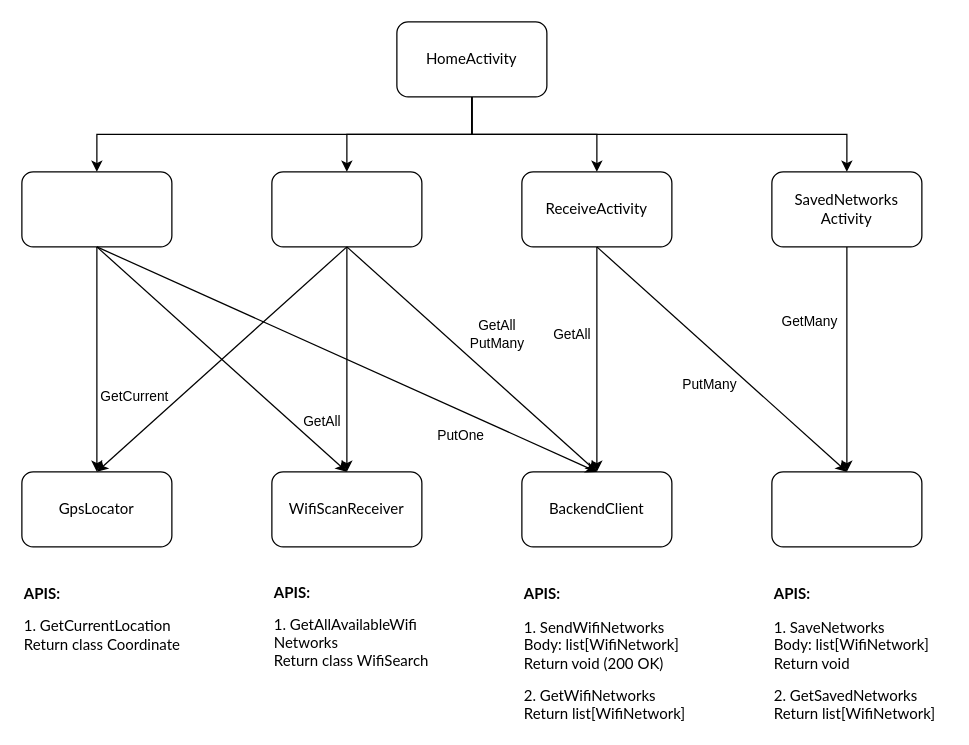
The diagram is 969 pixels wide and 745 high, and some of its shapes have lost their labels. The centre of each missing label's shape, as x and y in pixels:
AddActivity: the point at 96,209
NetworkRepository: the point at 846,509
ScanActivity: the point at 346,209
